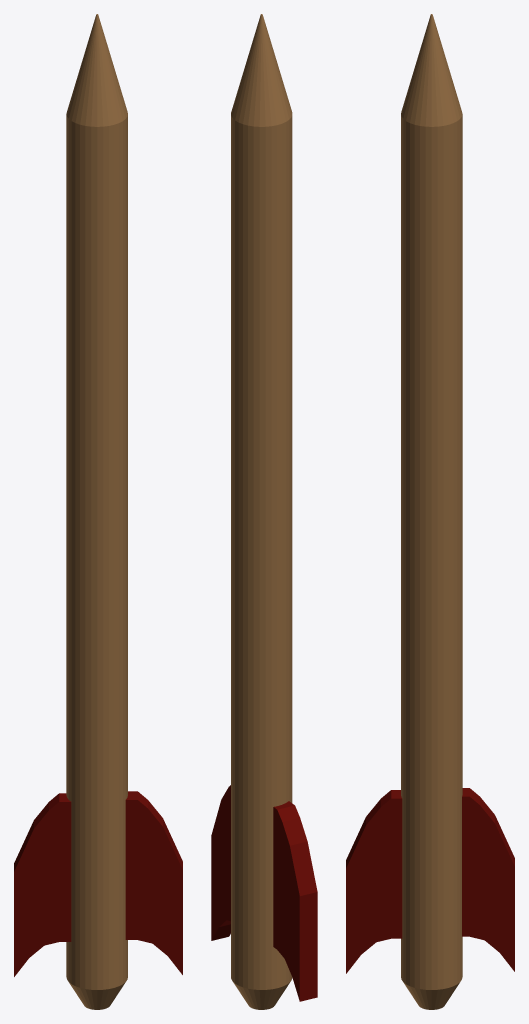
Rendered from arrow.fbx.
3 renders of one model, left to right at view 1: azimuth 90°, elevation 25°; view 2: azimuth 210°, elevation 25°; view 3: azimuth 270°, elevation 25°, orthographic.
Visible parts, largest first — view 1: shaft, feather, feather2; view 2: shaft, feather2, feather; view 3: shaft, feather, feather2.
Boxes of the visible parts, x1,y1,x2,y2 form: shaft: (66,14,127,1009); feather: (125,791,182,974); feather2: (14,793,71,976); shaft: (231,14,292,1009); feather2: (273,801,317,1001); feather: (211,785,230,940); shaft: (401,14,462,1009); feather: (346,790,402,973); feather2: (462,788,514,971).
Bounding box in the file's own units: 5.13 × 90.9 × 14.05.
